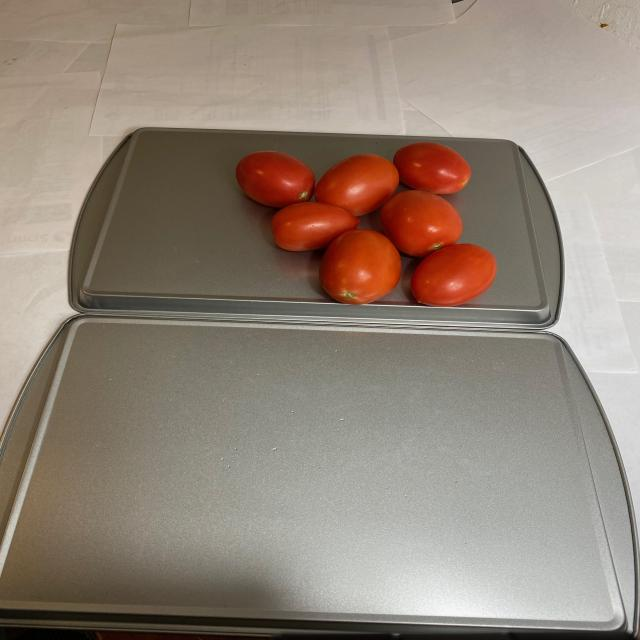tomato: (236, 142, 502, 309)
